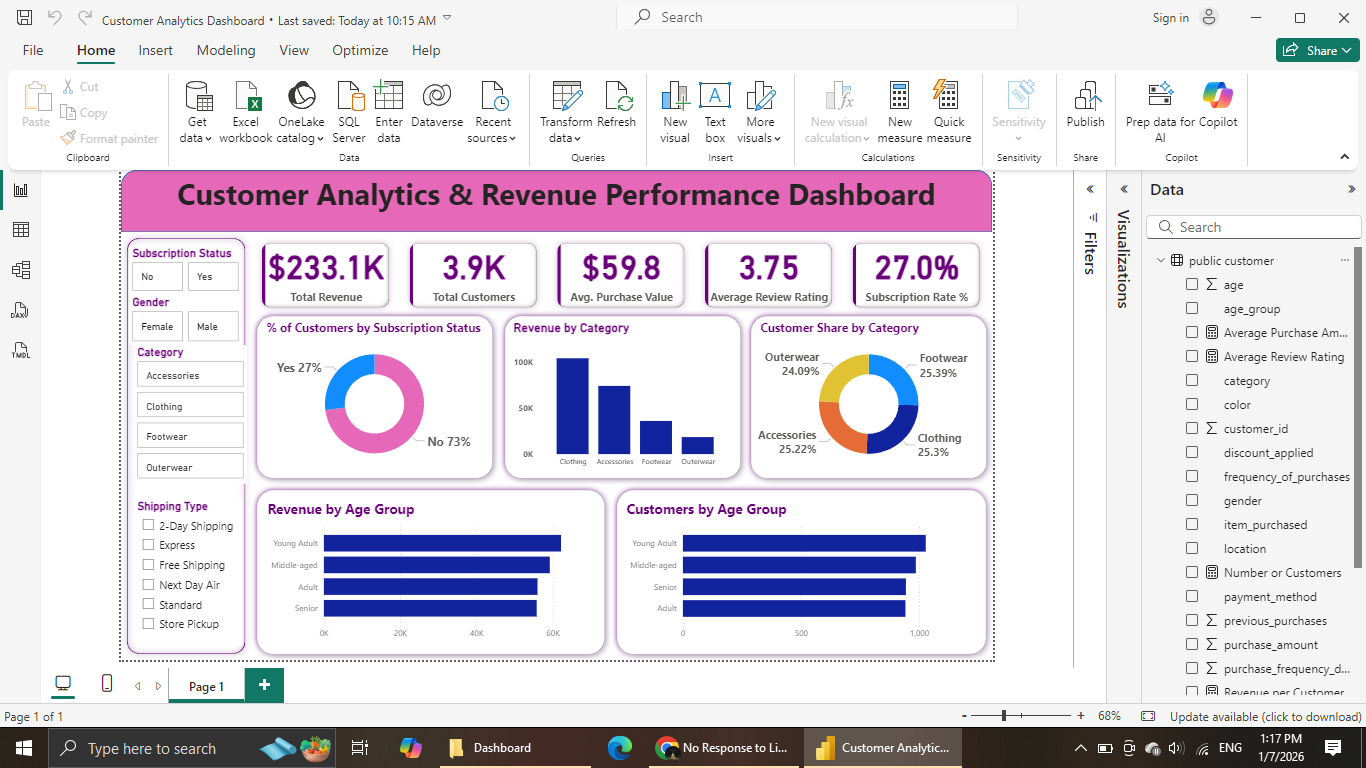

The dashboard page shown, as its layout file describes it:
{"tool":"powerbi","page":{"name":"Page 1","canvas":[1280,720],"ordinal":0},"visuals":[{"type":"cardVisual","fields":{"Data":["public customer.Total Revenue","public customer.Number or Customers","public customer.Average Purchase Amount","public customer.Average Review Rating","public customer.Subscription Rate %"]},"box":[191,91.1,1088.8,127.8],"z":0},{"type":"shape","box":[0,0,1280,91.3],"z":1000},{"type":"textbox","box":[0,0,1279.8,77.9],"z":2000},{"type":"shape","box":[191.6,205.1,363.8,256],"z":3000},{"type":"donutChart","title":"% of Customers by Subscription Status","fields":{"Y":["CountNonNull(public customer.customer_id)"],"Category":["public customer.subscription_status"]},"box":[208.7,218.9,327.7,226.3],"z":4000},{"type":"shape","box":[191.6,461.1,528.5,259],"z":5000},{"type":"shape","box":[916.2,205.1,363.8,256],"z":6000},{"type":"shape","box":[555.4,205.1,363.8,256],"z":7000},{"type":"shape","box":[720.1,461.1,559.9,259],"z":8000},{"type":"clusteredColumnChart","title":"Revenue by Category","fields":{"Y":["Sum(public customer.purchase_amount)"],"Category":["public customer.category"]},"box":[571.9,220.1,330.9,226.1],"z":9000},{"type":"donutChart","title":"Customer Share by Category","fields":{"Category":["public customer.category"],"Y":["public customer.Revenue per Customer"]},"box":[935,219.4,328.3,227],"z":10000},{"type":"shape","box":[0,91.3,191.6,628.8],"z":11000},{"type":"advancedSlicerVisual","fields":{"Values":["public customer.subscription_status"]},"box":[12,112.3,166.2,71.9],"z":12000},{"type":"advancedSlicerVisual","fields":{"Values":["public customer.gender"]},"box":[12,184.1,166.2,73.4],"z":13000},{"type":"advancedSlicerVisual","fields":{"Values":["public customer.category"]},"box":[19.1,257.1,166,204.2],"z":14000},{"type":"slicer","title":"Shipping Type","fields":{"Values":["public customer.shipping_type"]},"box":[19.5,483.6,158.7,215.6],"z":15000},{"type":"clusteredBarChart","title":"Revenue by Age Group","fields":{"Y":["Sum(public customer.purchase_amount)"],"Category":["public customer.age_group"]},"box":[209.6,483.6,495.5,215.6],"z":16000},{"type":"clusteredBarChart","title":"Customers by Age Group","fields":{"Y":["CountNonNull(public customer.customer_id)"],"Category":["public customer.age_group"]},"box":[737.6,483.4,524.6,216],"z":17000}]}

Visuals, with their boxes on the page's 1280x720 design canvas (x1, y1, x2, y2). These are canvas units, not pixel positions in the 1366x768 screenshot, which may show the page scaled, cropped or inside an application window:
cardVisual - public customer.Total Revenue x public customer.Number or Customers: [191,91,1280,219]
shape: [0,0,1280,91]
textbox: [0,0,1280,78]
shape: [192,205,555,461]
"% of Customers by Subscription Status" donutChart: [209,219,536,445]
shape: [192,461,720,720]
shape: [916,205,1280,461]
shape: [555,205,919,461]
shape: [720,461,1280,720]
"Revenue by Category" clusteredColumnChart: [572,220,903,446]
"Customer Share by Category" donutChart: [935,219,1263,446]
shape: [0,91,192,720]
advancedSlicerVisual - public customer.subscription_status: [12,112,178,184]
advancedSlicerVisual - public customer.gender: [12,184,178,258]
advancedSlicerVisual - public customer.category: [19,257,185,461]
"Shipping Type" slicer: [20,484,178,699]
"Revenue by Age Group" clusteredBarChart: [210,484,705,699]
"Customers by Age Group" clusteredBarChart: [738,483,1262,699]
